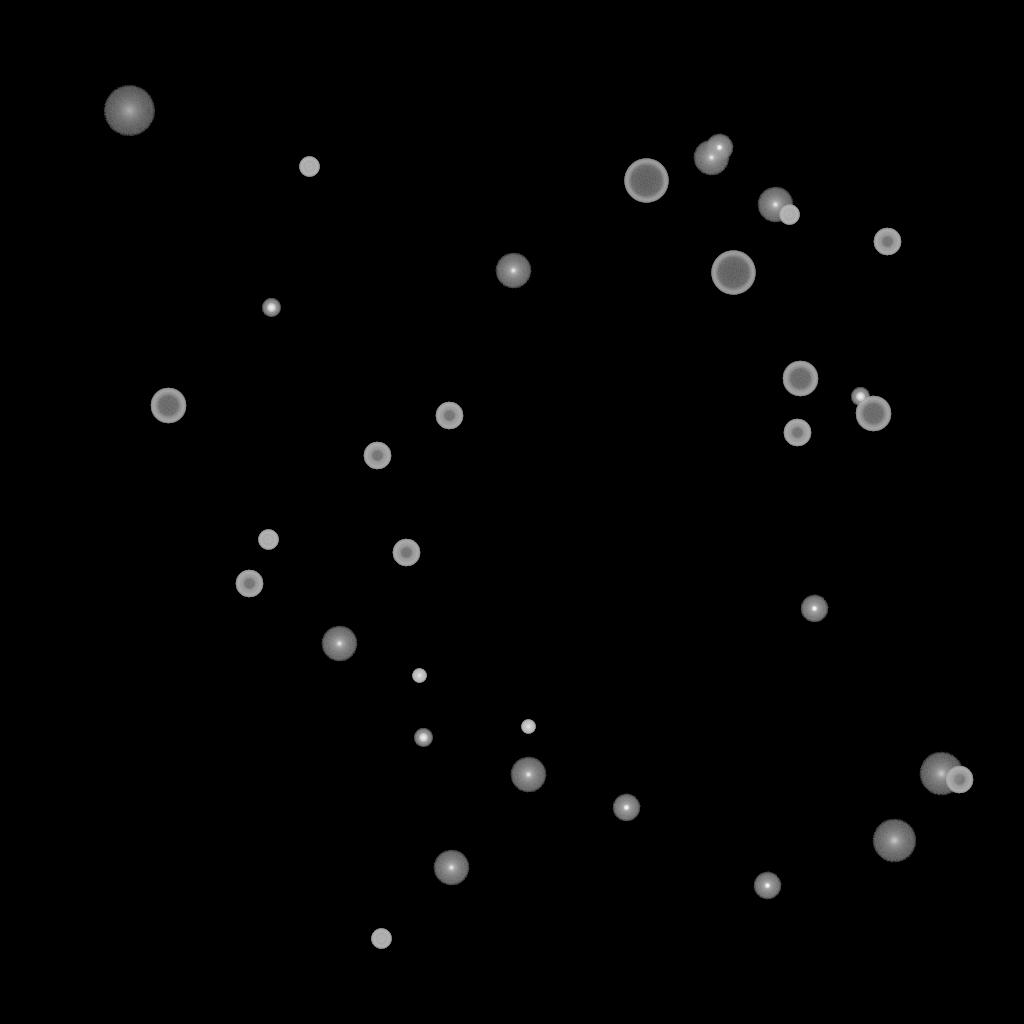depth:-10: (705, 134, 733, 162), (800, 595, 828, 623), (753, 872, 781, 900), (612, 794, 640, 822)
depth:-20: (262, 299, 280, 317), (414, 729, 432, 747), (851, 388, 869, 406)
depth:-30: (521, 720, 535, 734), (412, 669, 426, 683)
depth:-40: (779, 205, 799, 225), (258, 530, 278, 550), (299, 157, 319, 177), (371, 929, 391, 949)
depth:-50: (235, 570, 263, 598), (363, 442, 391, 470), (873, 228, 901, 256), (783, 419, 811, 447), (392, 539, 420, 567), (945, 766, 973, 794), (435, 402, 463, 430)
depth:-60: (782, 361, 818, 397), (855, 396, 891, 432), (150, 388, 186, 424)
depth:-70: (624, 159, 668, 203), (711, 251, 755, 295)
depth:0: (757, 187, 793, 223), (693, 140, 729, 176), (510, 757, 546, 793), (321, 626, 357, 662), (433, 850, 469, 886), (495, 253, 531, 289)
depth:10: (872, 819, 916, 863), (919, 752, 963, 796)
depth:20: (103, 86, 155, 136)
